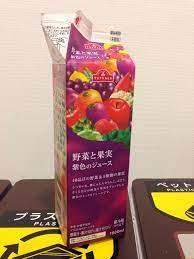cardboard: (43, 10, 134, 258), (132, 179, 193, 258)
metal: (43, 10, 134, 258)
